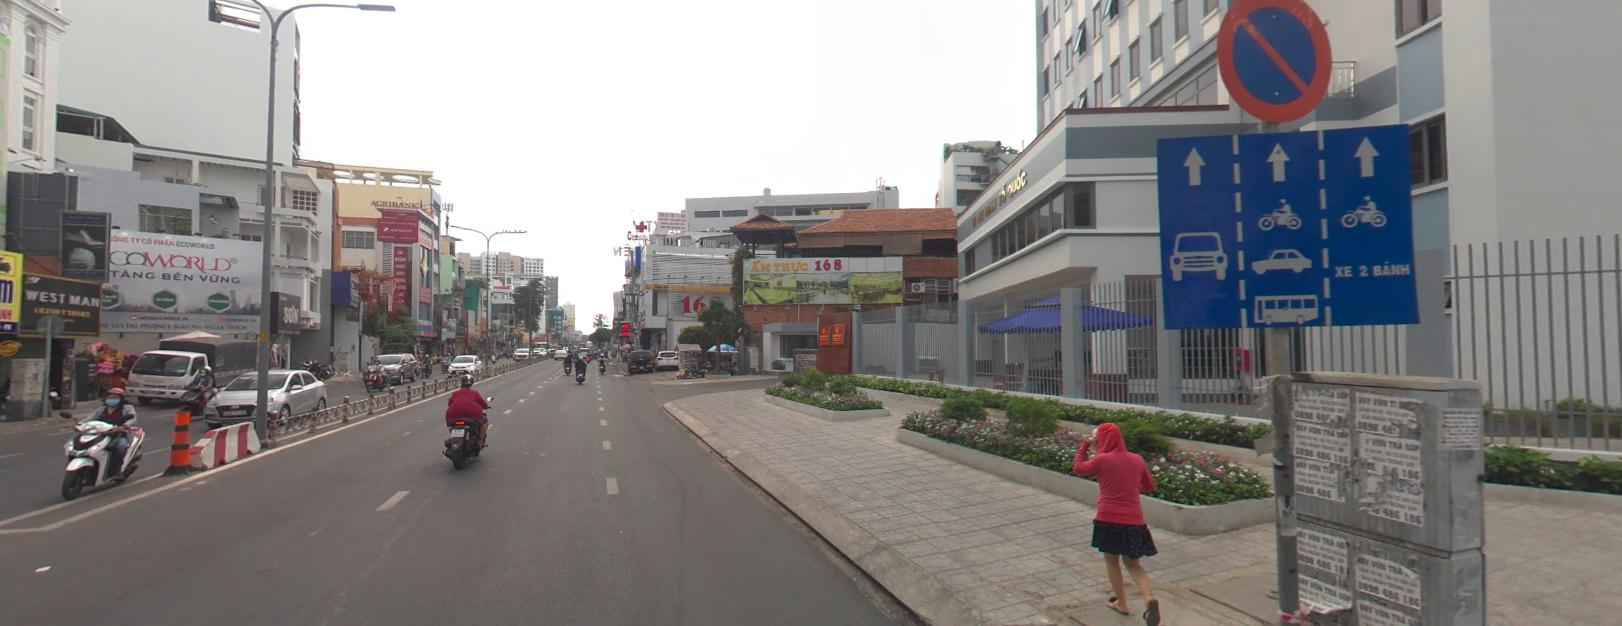Cam dung va do: (1216, 0, 1333, 124)
Cam re: (615, 336, 621, 342)
